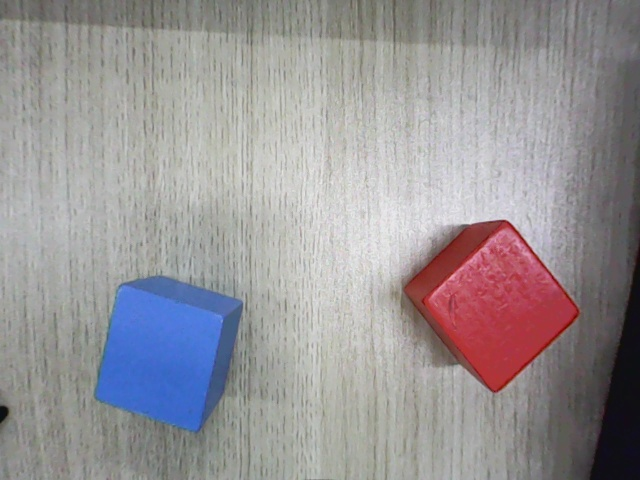upside of big cube: (423, 224, 580, 392), (95, 287, 223, 431)
